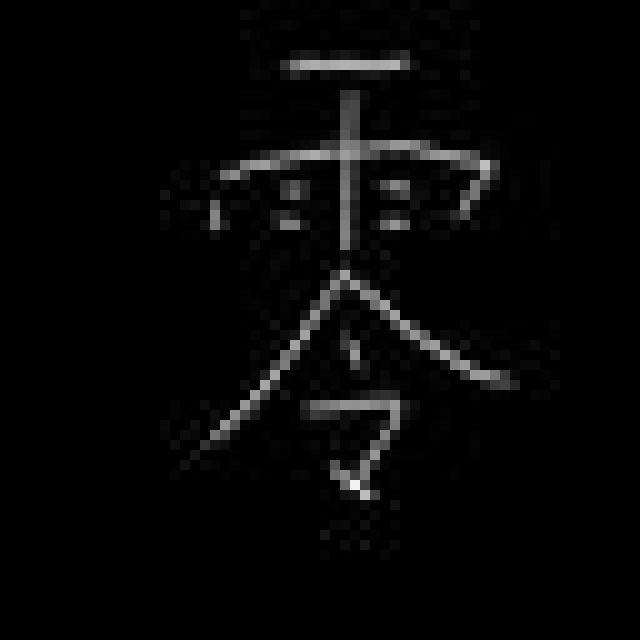0 -zero-: (190, 41, 520, 515)
